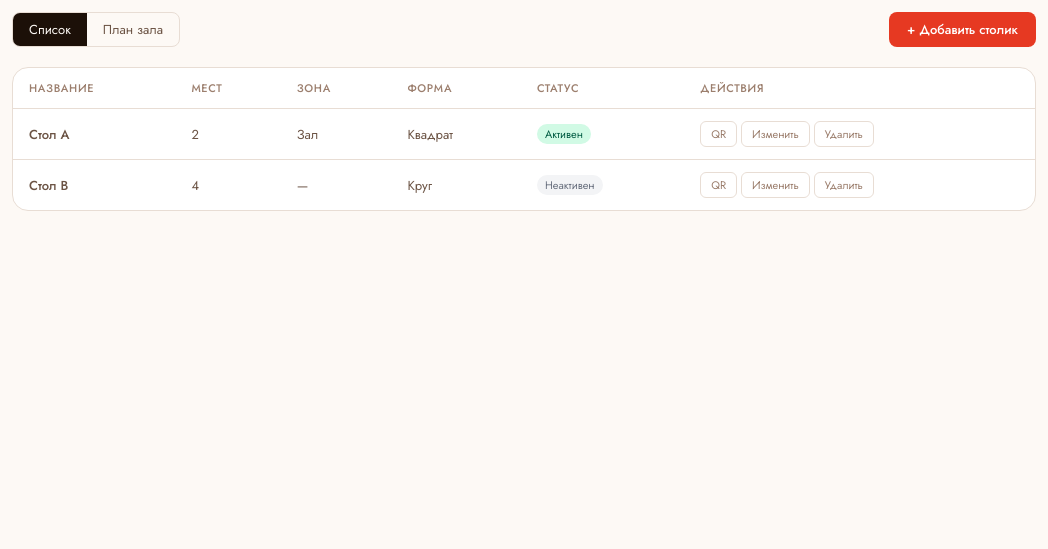
Test: AdminTablesPage form › opens edit form when Изменить clicked
Expected: the text "Стол A" is shown, [13, 108, 175, 160]
Click the button "Изменить" in the row of "Стол A" at (775, 134), box [741, 121, 810, 147]
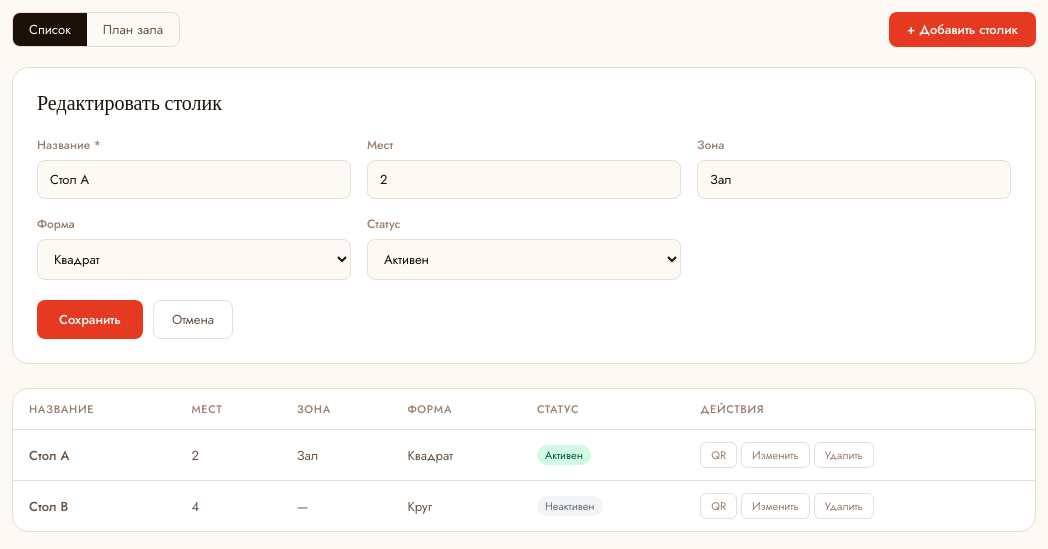
Expected: the text "Редактировать столик" is shown, [37, 92, 222, 116]
